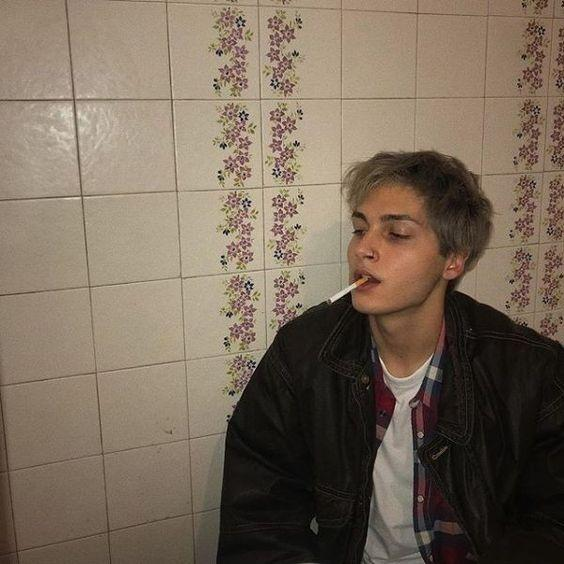cigarette: (327, 277, 369, 305)
